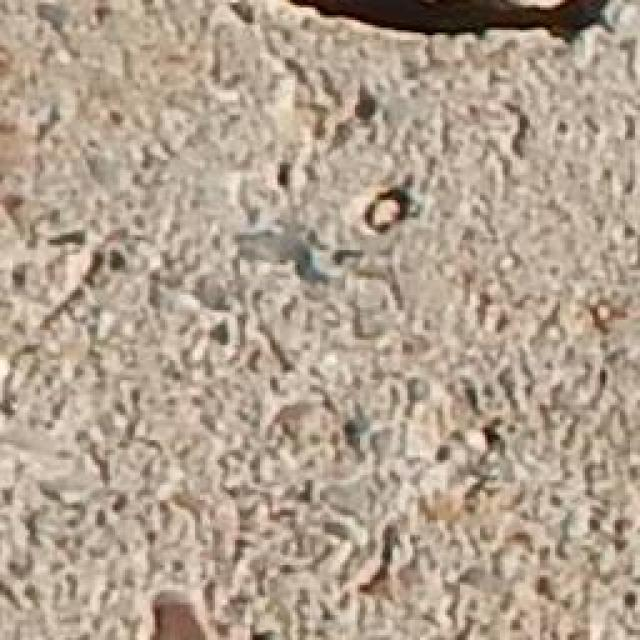concrete-crack: (270, 1, 640, 61)
